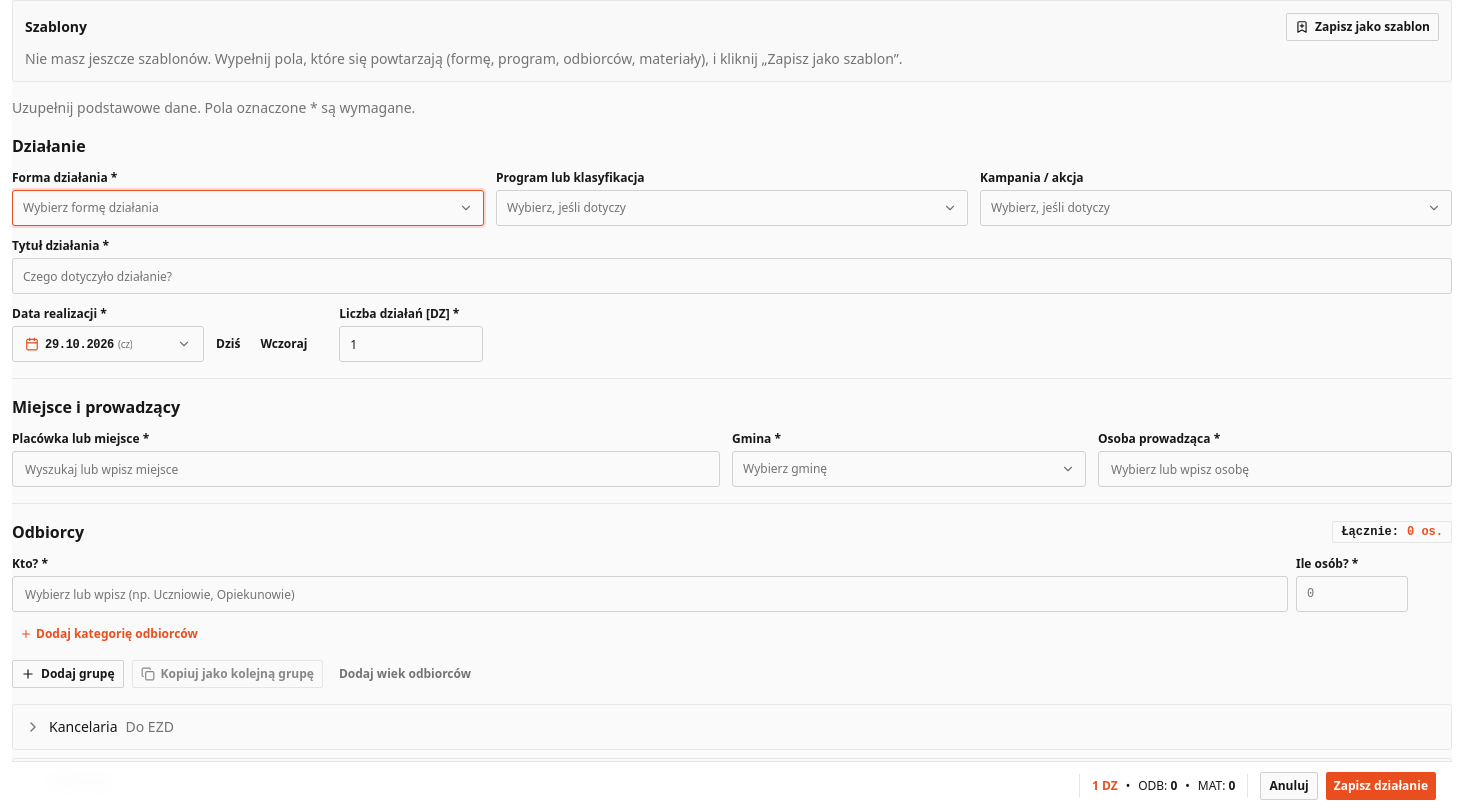
Quick action form › keeps group details and counts when collapsed and expanded
In the dropdown labelled "Kto? *": (650, 594) [12,576,1288,612], type "Uczniowie"
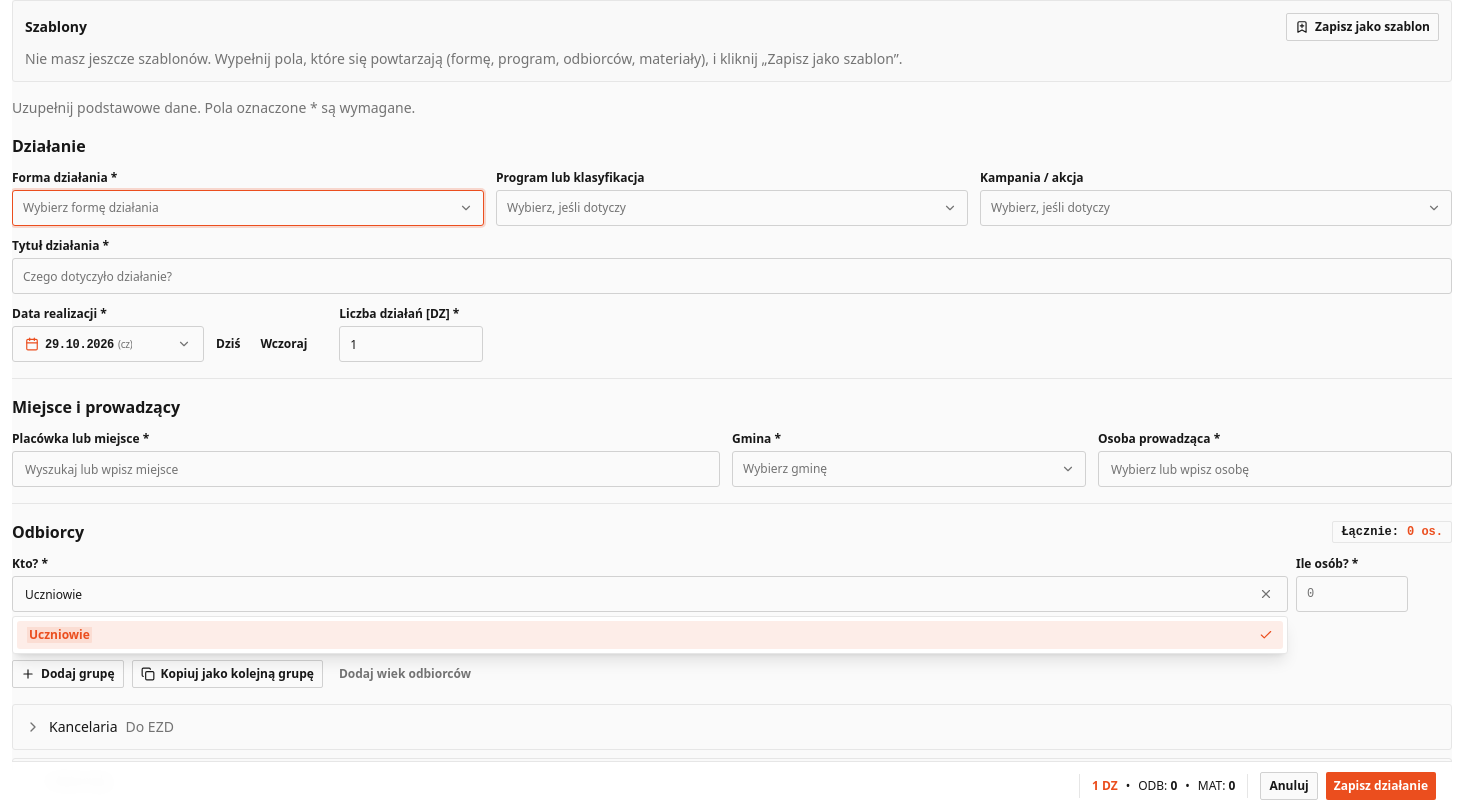
In the number field labelled "Ile osób? *": (1352, 594) [1296,576,1408,612], type "12"
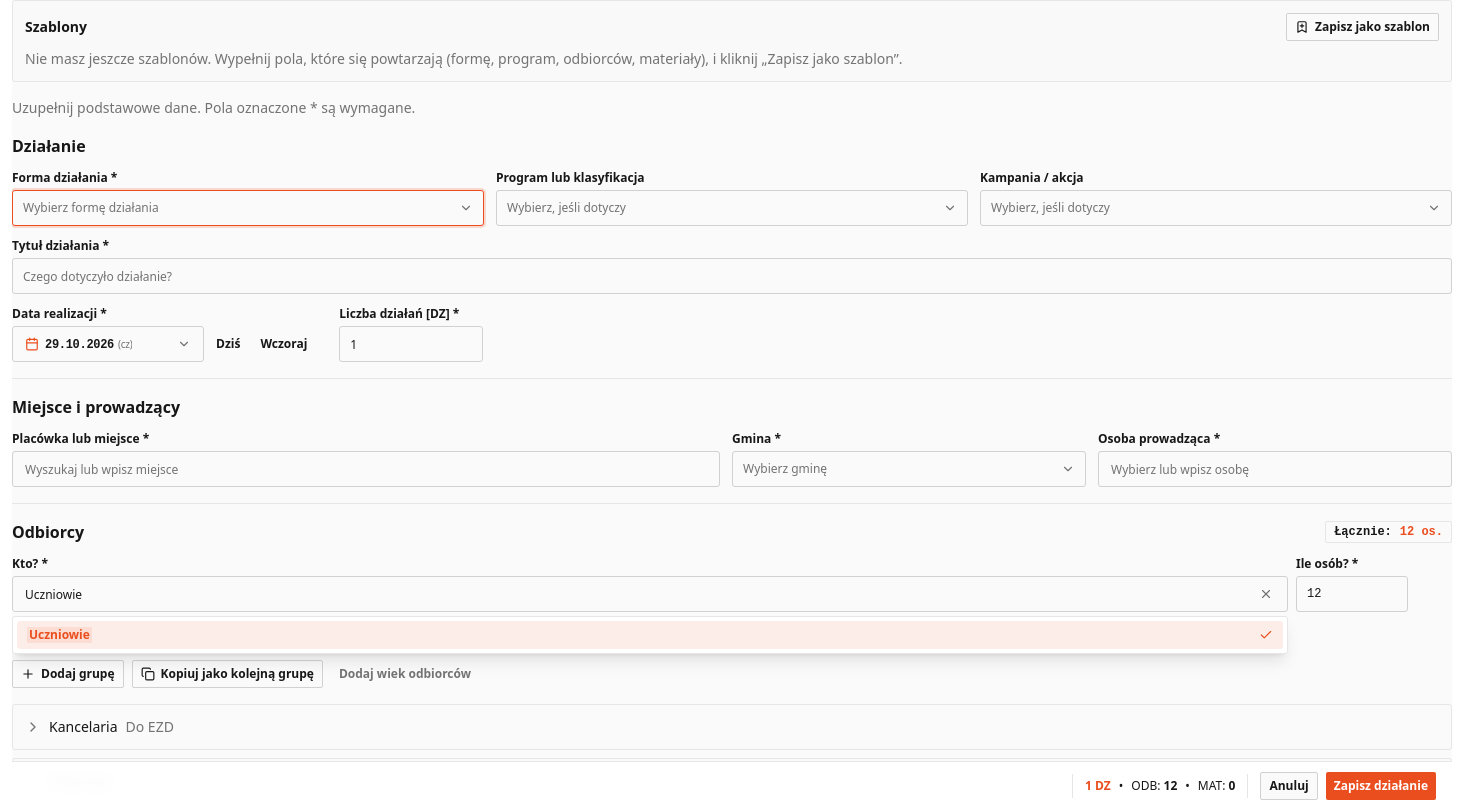
Click the button "Dodaj wiek odbiorców": (405, 674) [331,660,479,688]
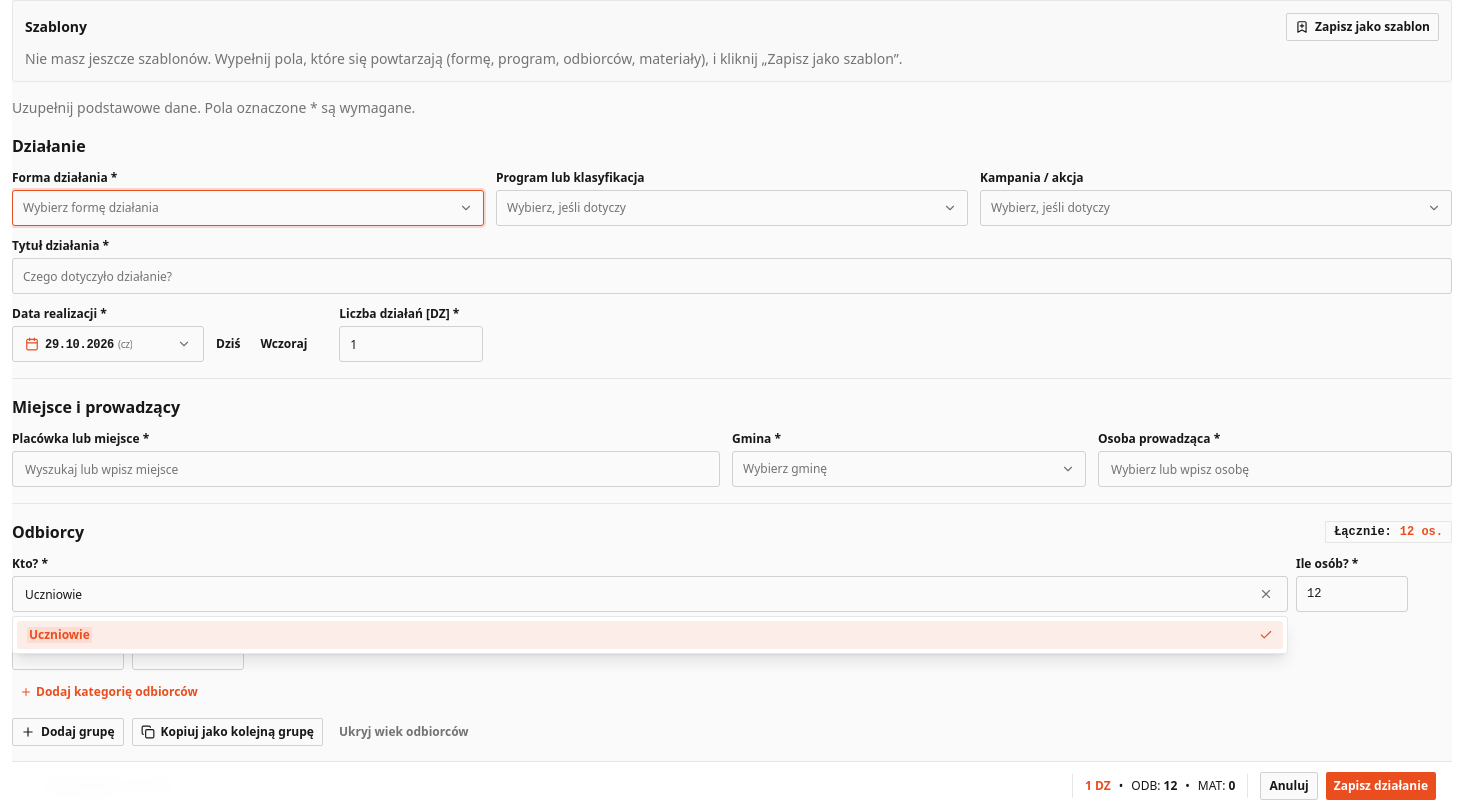
In the number field labelled "Wiek od": (68, 654) [12,638,124,670], type "10"
In the number field labelled "Wiek do": (188, 654) [132,638,244,670], type "12"
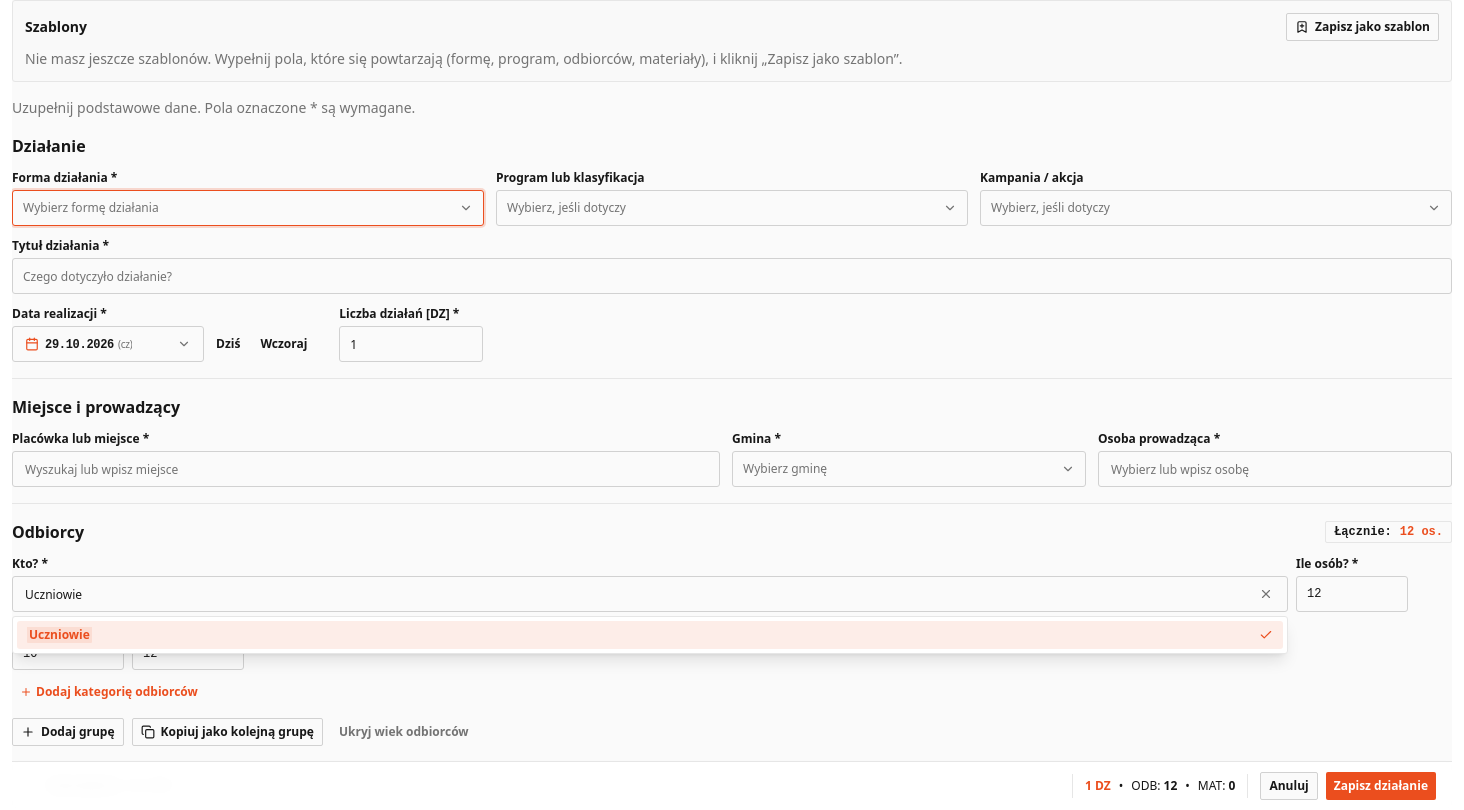
Click the button "Ukryj wiek odbiorców": (404, 732) [331,718,477,746]
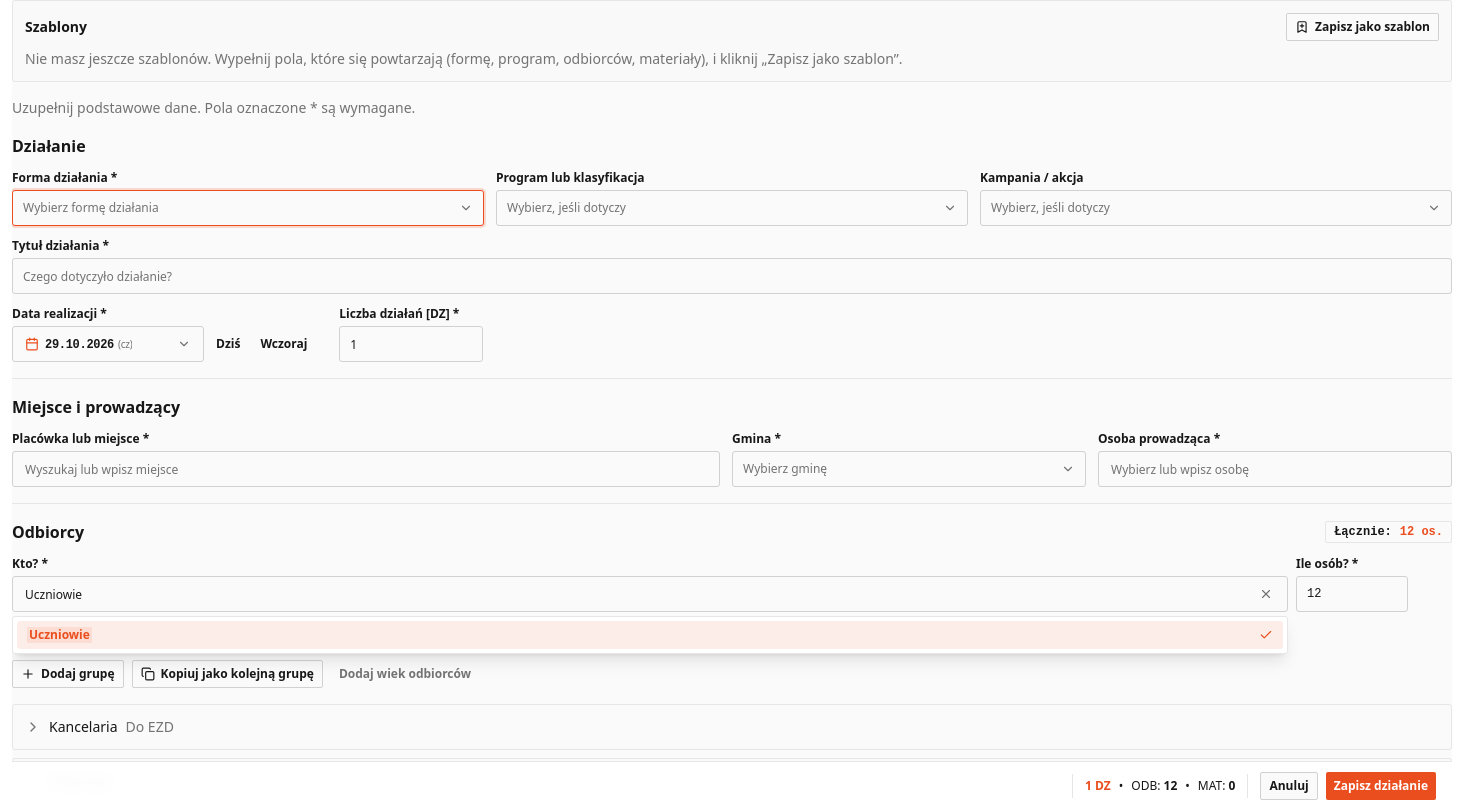
Click the button "Dodaj wiek odbiorców": (405, 674) [331,660,479,688]
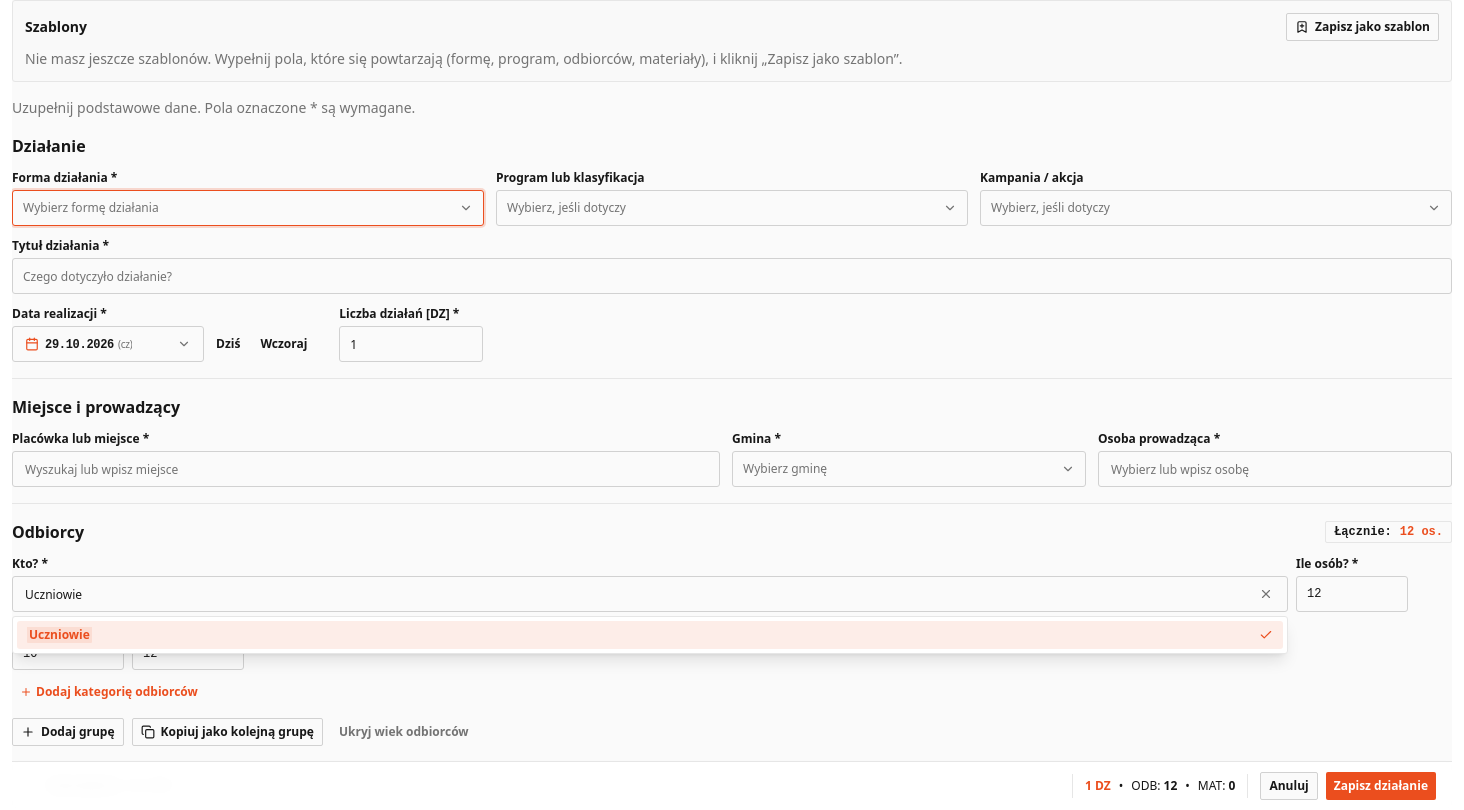
Result: the number field labelled "Wiek od" holds "10" at [12,638,124,670]
